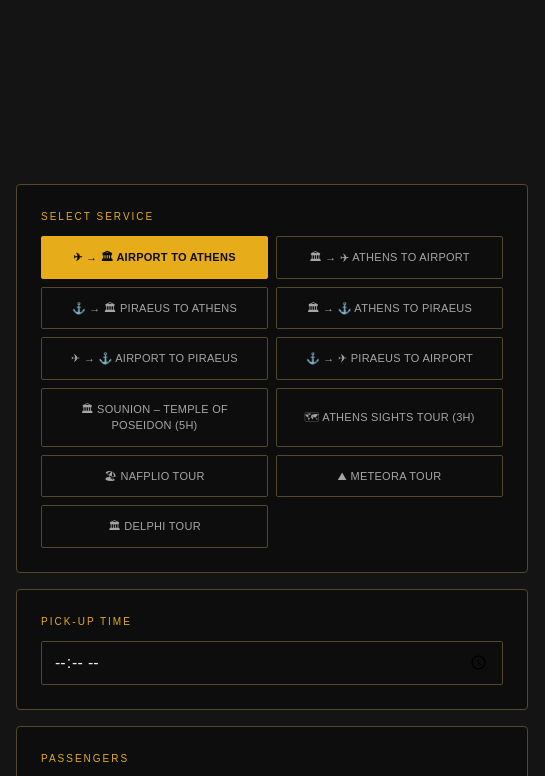
Test: unchanged calculator fares and customer-initiated email drafts › keeps the delphi fixed fare at €500
Click the button "🏛 Delphi Tour" at (154, 526), box [41,505,268,548]
(page scrolled)
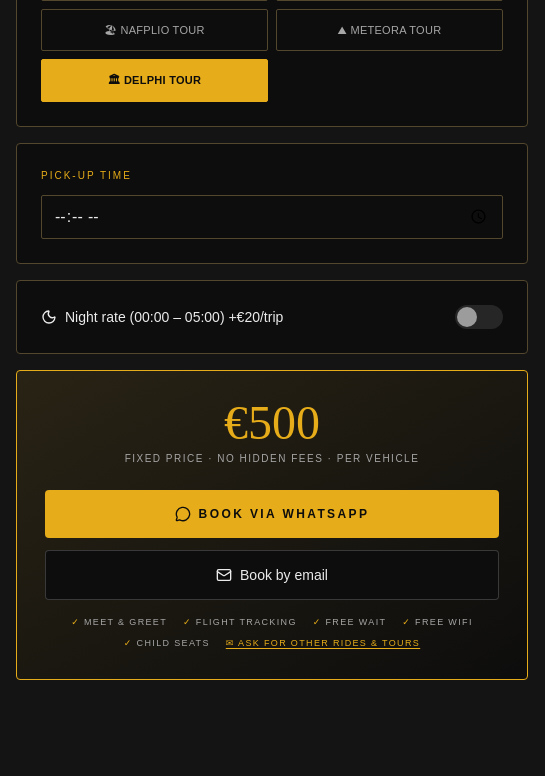
Expected: the text "€500" is shown, [224,396,320,448]
